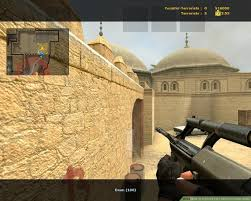gun: (154, 114, 250, 191)
